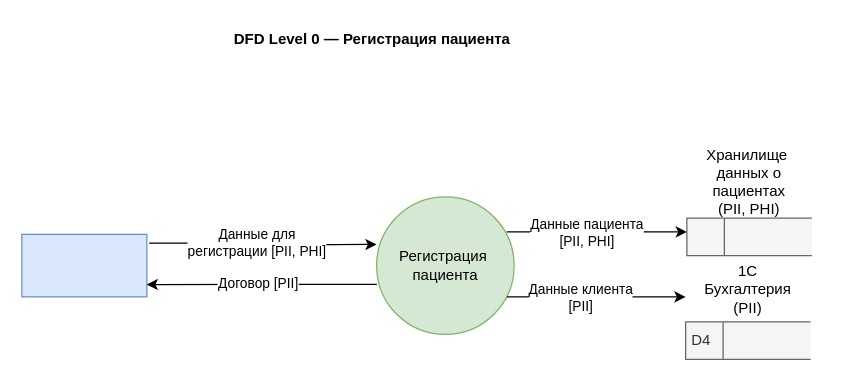
Some shapes in this 859 by 385 pixel diagram are drawn without their labels. Each missing label, with the centre of its shape:
D3: pixel 749 236
Пациент: pixel 84 265
